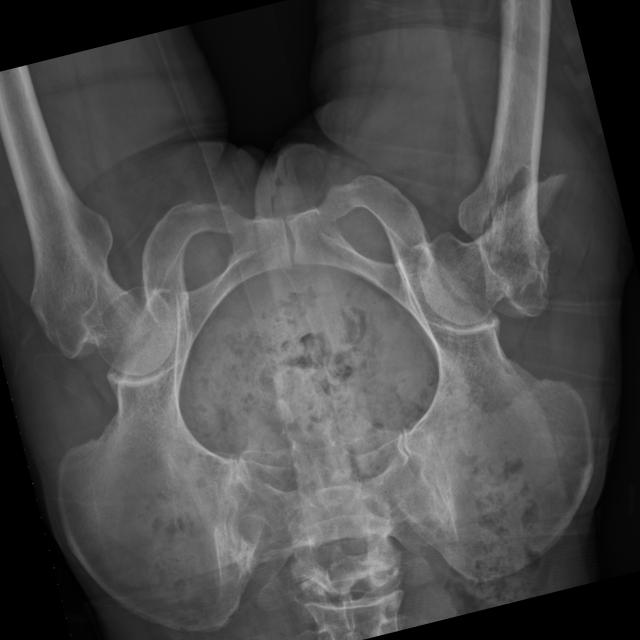normal-left: (0, 92, 174, 374)
right-subtrochanteric: (417, 174, 565, 324), (457, 122, 541, 317)
